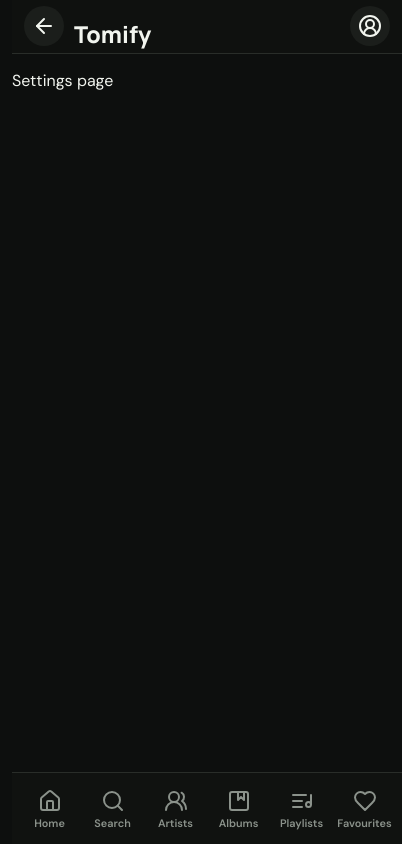
AppShell navigation › goes straight back from pages not opened from the account sheet
Click the button named "Go back" at (44, 26), box [24, 6, 64, 46]
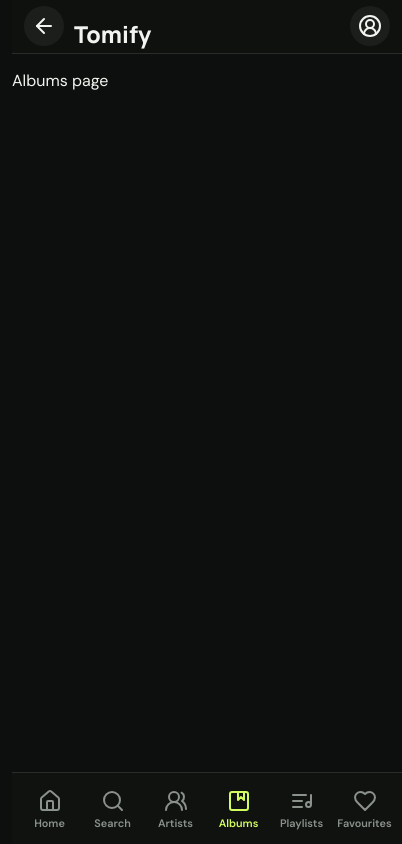
Expected: the text "Albums page" is shown, [12, 70, 108, 91]
